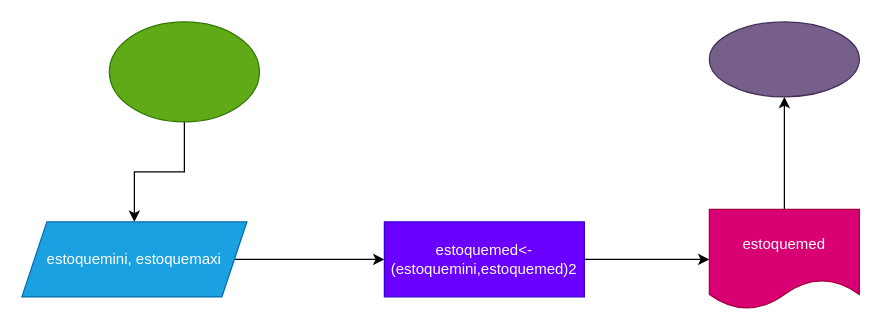
The diagram is 881 pixels wide and 331 high, and some of its shapes have lost their labels. Here are the shapes that lost their labels. From the top down, the centre of each, then its label:
At [183,71]: "inicio".
At [783,59]: "fim".
